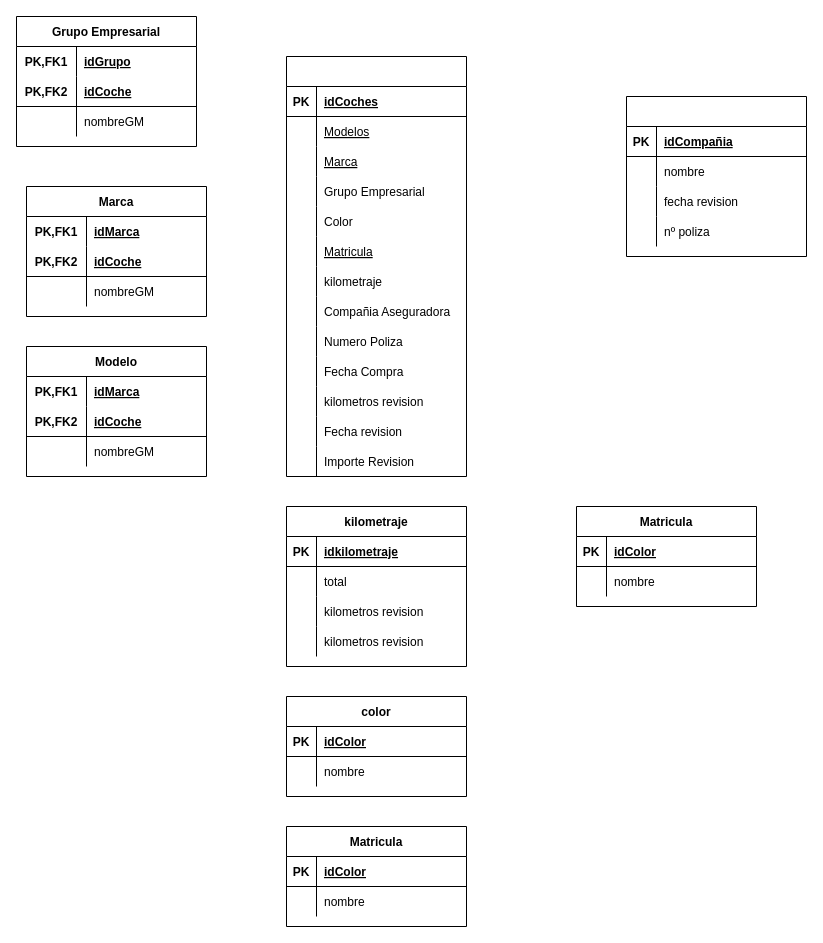
Some shapes in this 823 by 943 pixel diagram are drawn without their labels. The shapes that lost their labels are listed below. From the top down, each one's box as (x1, y1, x2, y2) in pixels, then its label:
(626, 96, 806, 256): Aseguradoras
(286, 56, 466, 476): tabla coches
